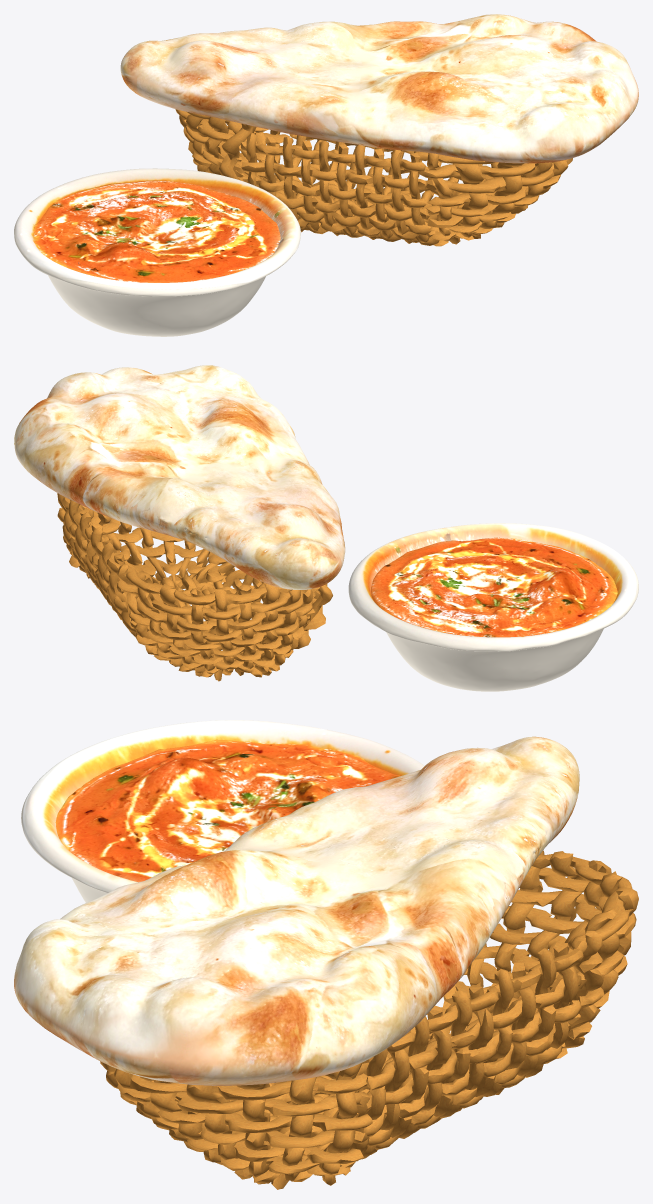
File: butter_chicken.glb
3 views of the same model, one above another, from view 1: azimuth 30°, elevation 25°; view 2: azimuth 150°, elevation 25°; view 3: azimuth 270°, elevation 25° (orthographic). The views are drawn at different scales.
Visible parts, largest first — view 1: nan06_3, bcurry07_1, kago06_2; view 2: nan06_3, bcurry07_1, kago06_2; view 3: nan06_3, kago06_2, bcurry07_1.
Boxes of the visible parts, bbox=[...] form: nan06_3: bbox=[120, 14, 638, 163]; bcurry07_1: bbox=[14, 168, 300, 336]; kago06_2: bbox=[175, 109, 572, 246]; nan06_3: bbox=[14, 365, 345, 589]; bcurry07_1: bbox=[348, 523, 638, 691]; kago06_2: bbox=[57, 493, 332, 681]; nan06_3: bbox=[14, 736, 579, 1085]; kago06_2: bbox=[100, 850, 638, 1189]; bcurry07_1: bbox=[21, 720, 424, 902].
Size of the model in its own units: 0.1709 by 0.0514 by 0.1052.
Materials: 3 (3 with a texture image).
